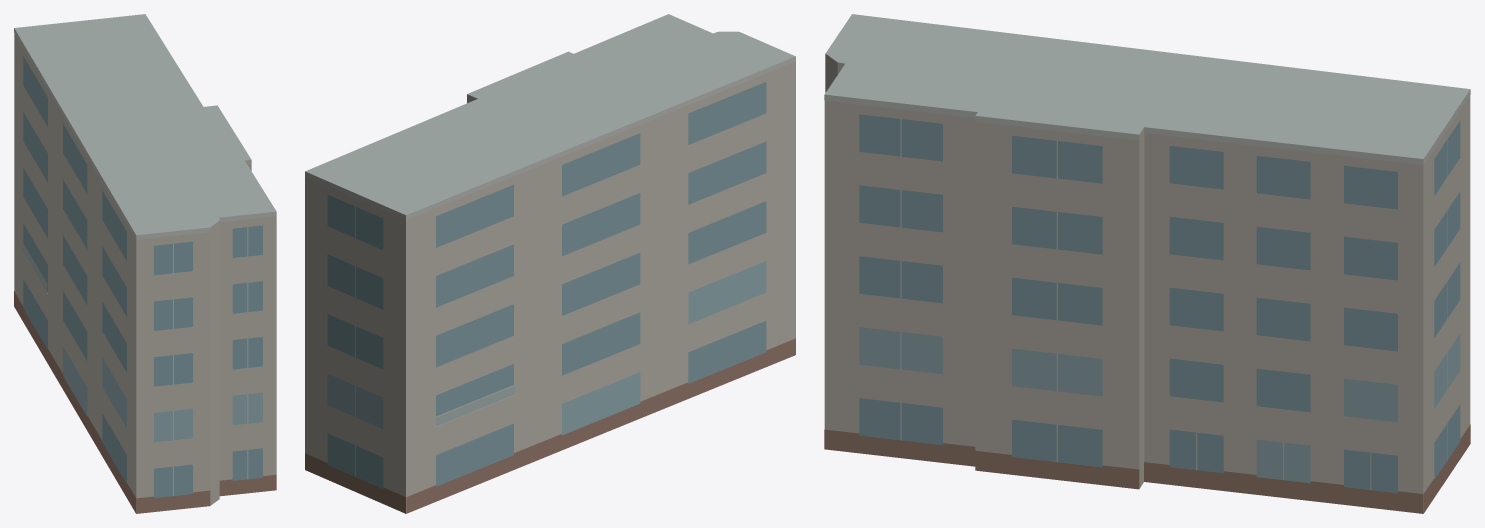
Rendered from survey-upis-32495130.glb.
3 renders of one model, left to right at view 1: azimuth 30°, elevation 25°; view 2: azimuth 150°, elevation 25°; view 3: azimuth 270°, elevation 25°, orthographic. The views are drawn at different scales.
Parts seen in each view (by area): view 1: survey-upis-32495130.tmp; view 2: survey-upis-32495130.tmp; view 3: survey-upis-32495130.tmp.
Boxes of the visible parts, x1=… form: survey-upis-32495130.tmp: x1=14, y1=14, x2=276, y2=513; survey-upis-32495130.tmp: x1=305, y1=14, x2=795, y2=513; survey-upis-32495130.tmp: x1=824, y1=14, x2=1470, y2=513.
Bounding box in the file's own units: 12.86 × 14.65 × 24.19.
